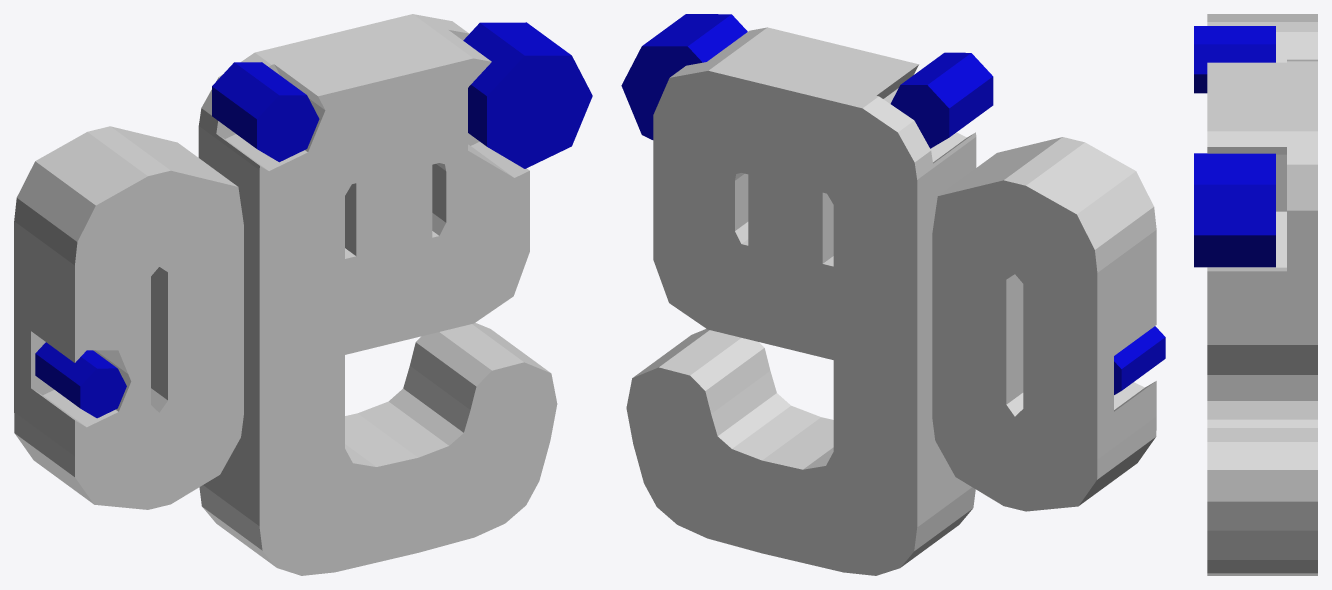
The model's file is Ch_Lite_China_吧_01.fbx.
The picture shows the model from 3 angles, left to right: view 1: azimuth 30°, elevation 25°; view 2: azimuth 150°, elevation 25°; view 3: azimuth 270°, elevation 25°; orthographic projection. The views are drawn at different scales.
Parts seen in each view (by area): view 1: sphere1; view 2: sphere1; view 3: sphere1.
Boxes of the visible parts, x1=… form: sphere1: x1=14, y1=14, x2=592, y2=575; sphere1: x1=621, y1=14, x2=1165, y2=575; sphere1: x1=1194, y1=14, x2=1317, y2=575.
Bounding box in the file's own units: 0.9743 × 0.9062 × 0.2242.
